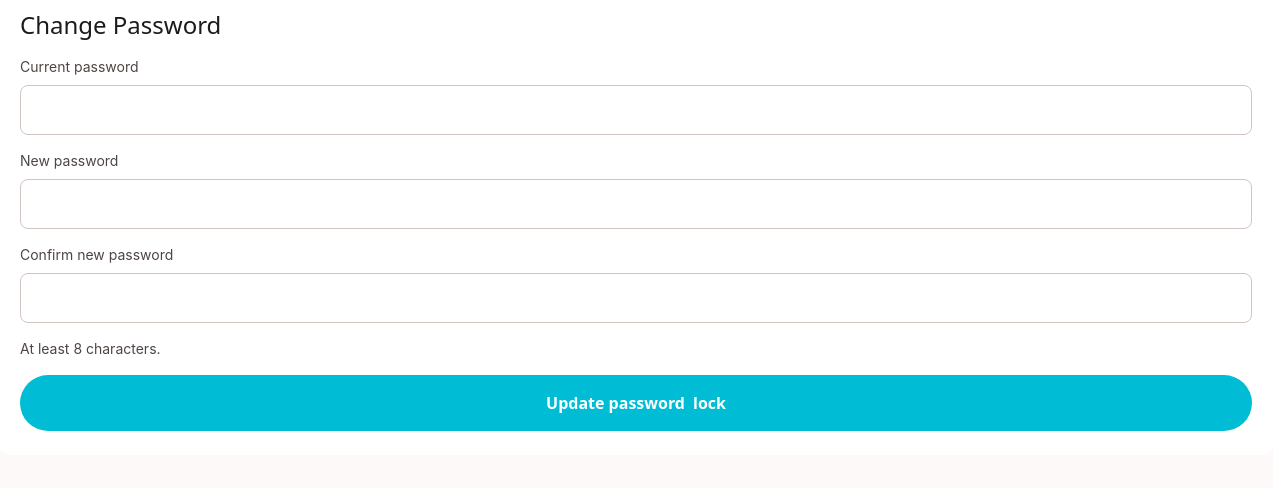
Test: ChangePasswordForm › blocks submit when new and confirm mismatch
Step 1. Type "oldpassword" into the password field labelled "Current password" → (636, 110), box [20,85,1252,135]
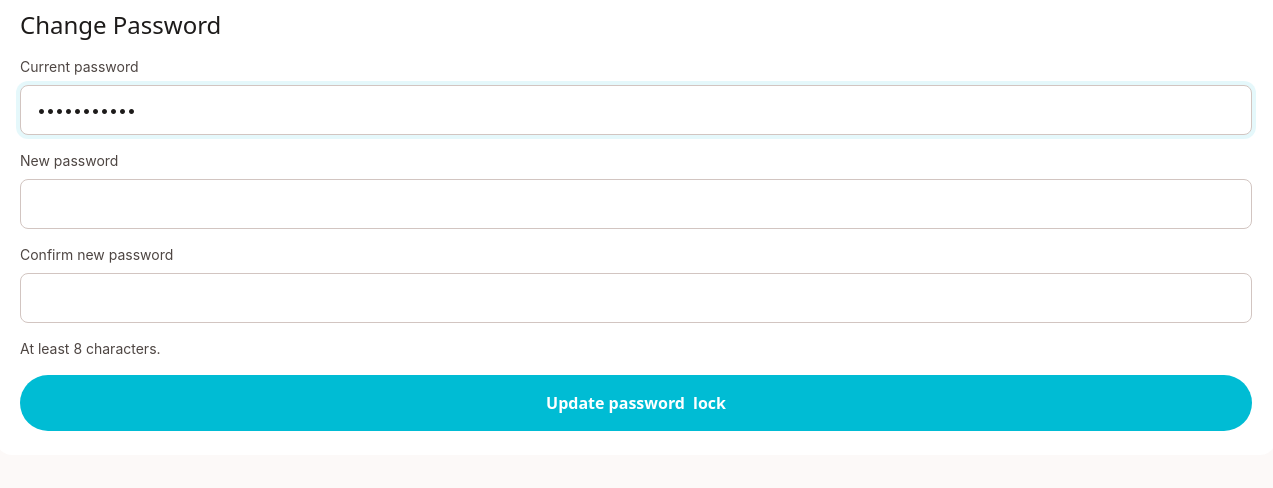
Step 2. Type "newpassword1" into the password field labelled "New password" → (636, 204), box [20,179,1252,229]
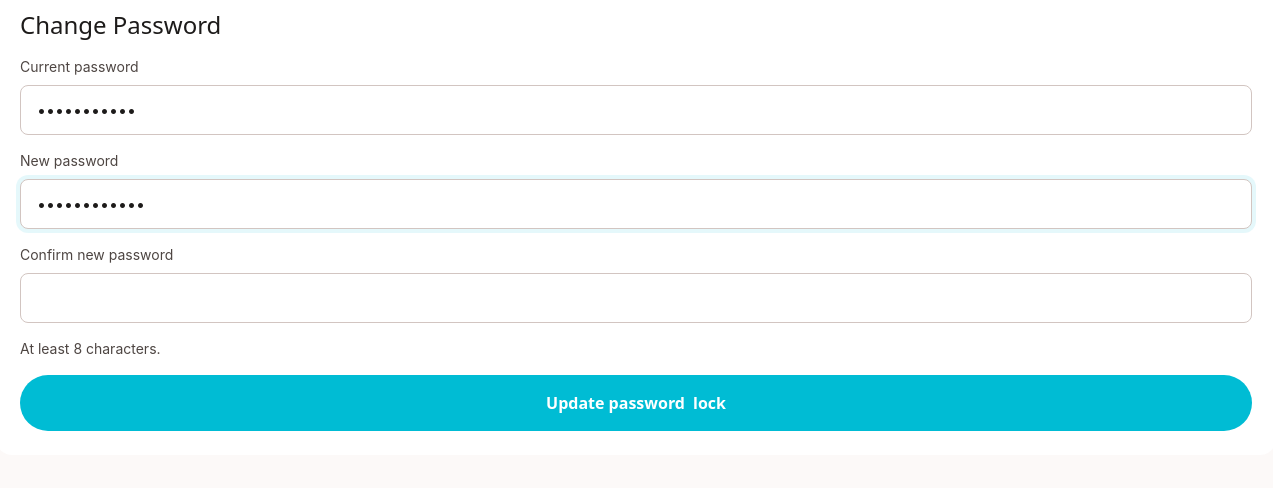
Step 3. Type "different123" into the password field labelled "Confirm new password" → (636, 298), box [20,273,1252,323]
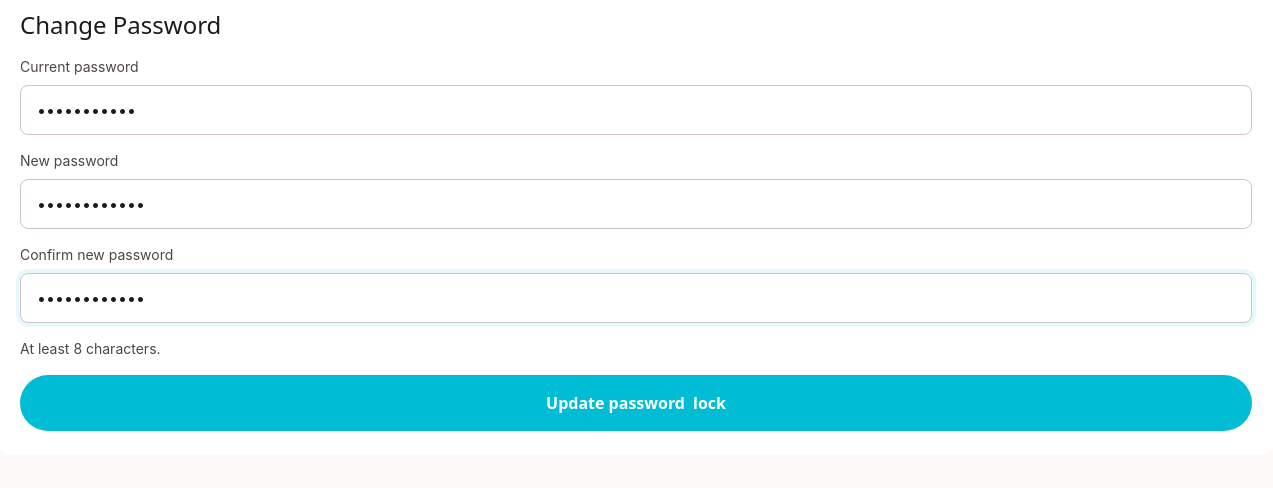
Step 4. Click the button "Update password lock" → (636, 403), box [20,375,1252,431]
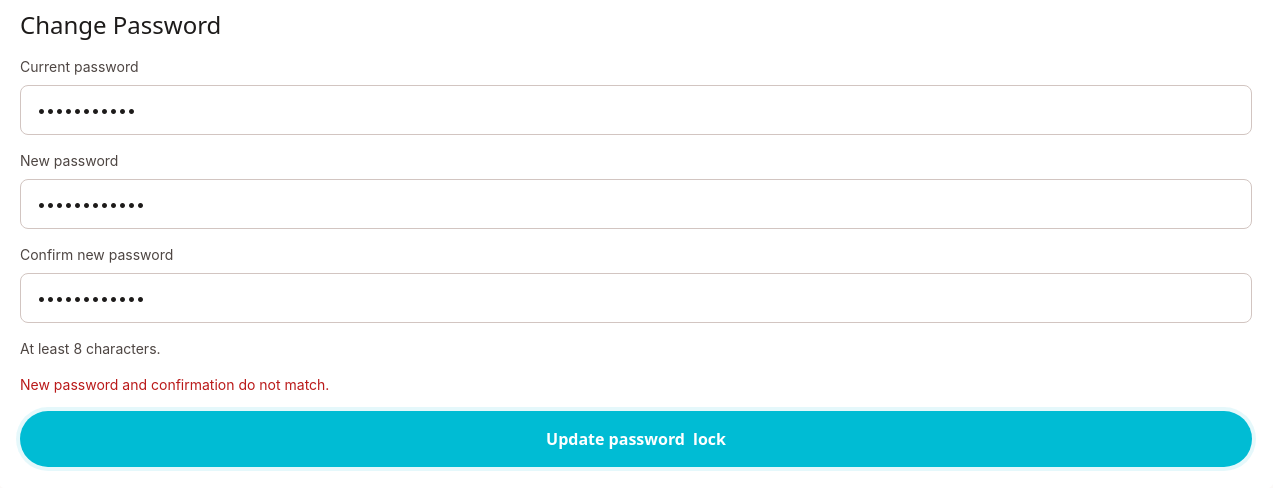
Result: the message shows "do not match" at [20,376,329,393]
